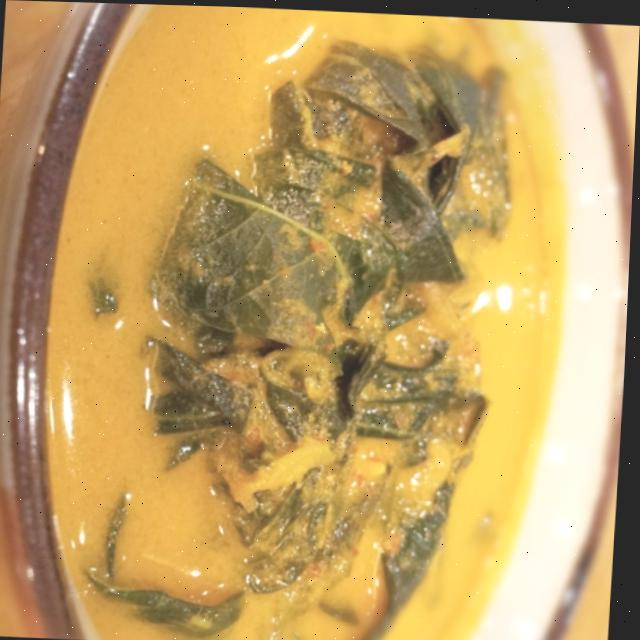熟制海鲜: (0, 6, 627, 632)
